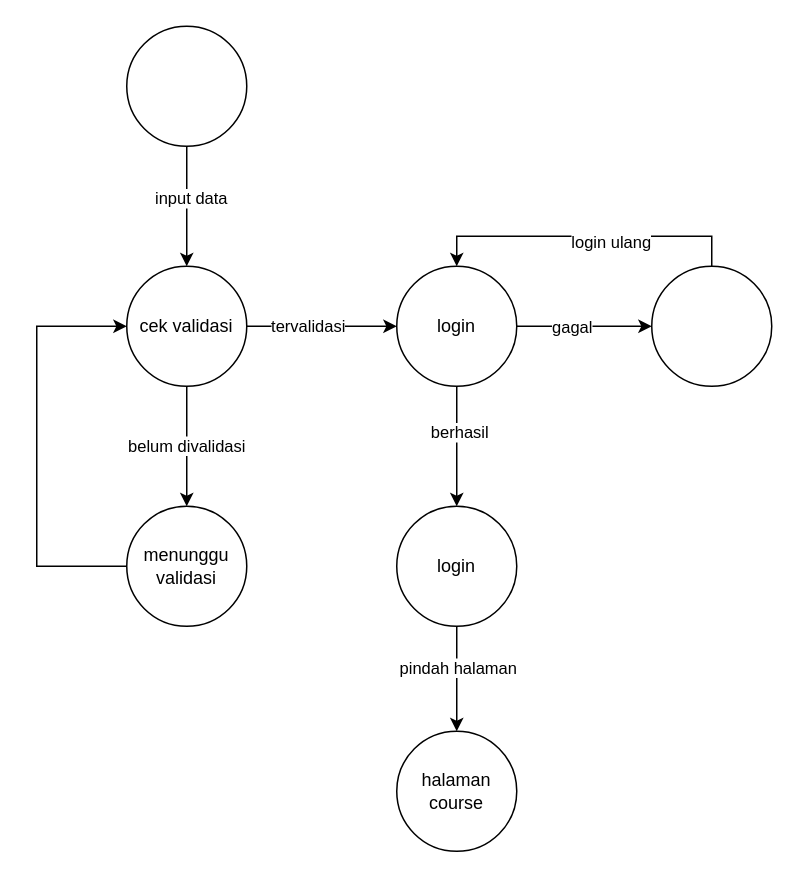
Image size: 798x878. Some labels were removed from this diagram. Each missing label, with the centre of its shape:
"data salah" belongs at pixel 711 325.
"Registrasi" belongs at pixel 186 85.
